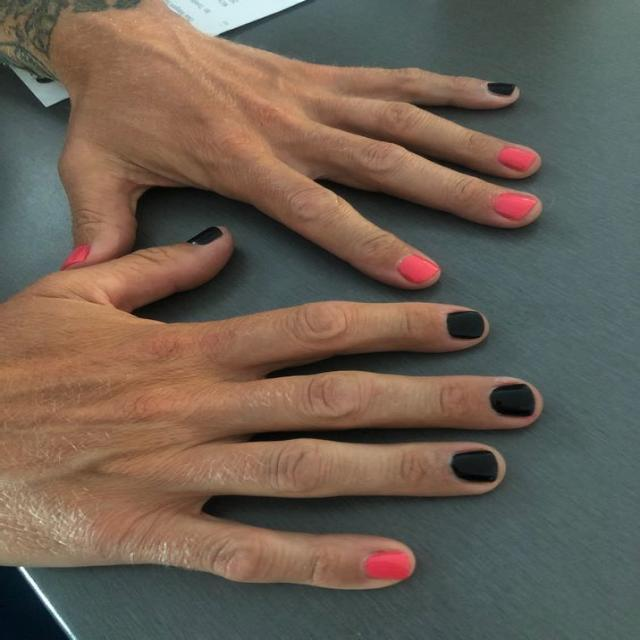Fingernail: (451, 450, 499, 486), (489, 383, 536, 418), (363, 549, 411, 580), (397, 253, 438, 284), (494, 193, 538, 221), (446, 311, 485, 341), (497, 145, 537, 172), (61, 243, 90, 271), (187, 226, 223, 244), (486, 82, 516, 97)
